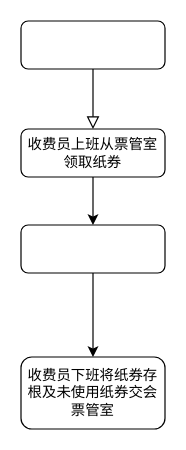
Some shapes in this 186 by 450 pixel diagram are drawn without their labels. The box of each missing label's shape, as (x1, y1, x2, y2) in pixels:
收费员人工填写信息 将客户联交给车主: (20, 224, 165, 273)
纸券入库票管室: (20, 20, 165, 69)
